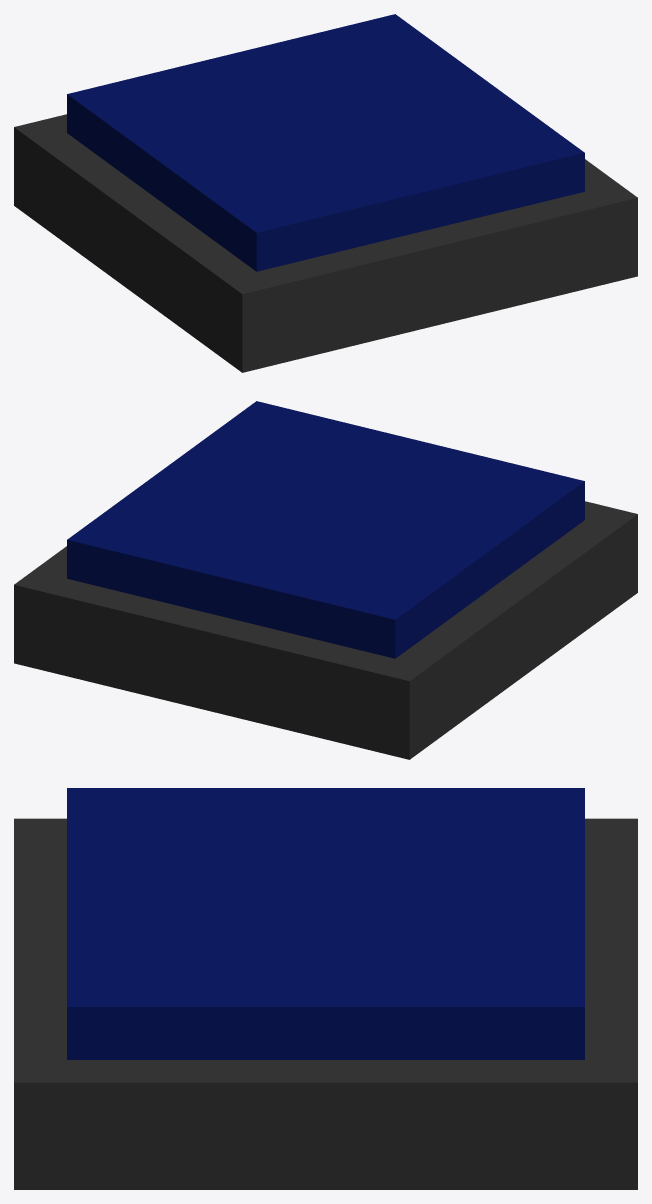
Rendered from RadarDishBase.fbx.
3 renders of one model, top to bottom at view 1: azimuth 30°, elevation 25°; view 2: azimuth 150°, elevation 25°; view 3: azimuth 270°, elevation 25°, orthographic. The views are drawn at different scales.
Visible parts, largest first — view 1: RadarBase; view 2: RadarBase; view 3: RadarBase.
Boxes of the visible parts, x1,y1,x2,y2 form: RadarBase: (14,14,637,372); RadarBase: (14,401,637,759); RadarBase: (14,788,637,1189).
Bounding box in the file's own units: 1428 × 406 × 1428.
